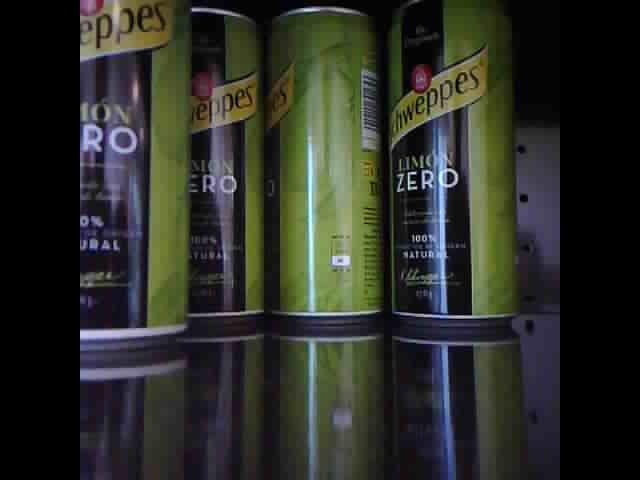schweppes: (390, 1, 515, 325), (79, 1, 192, 355), (269, 9, 382, 325), (185, 5, 263, 325)
